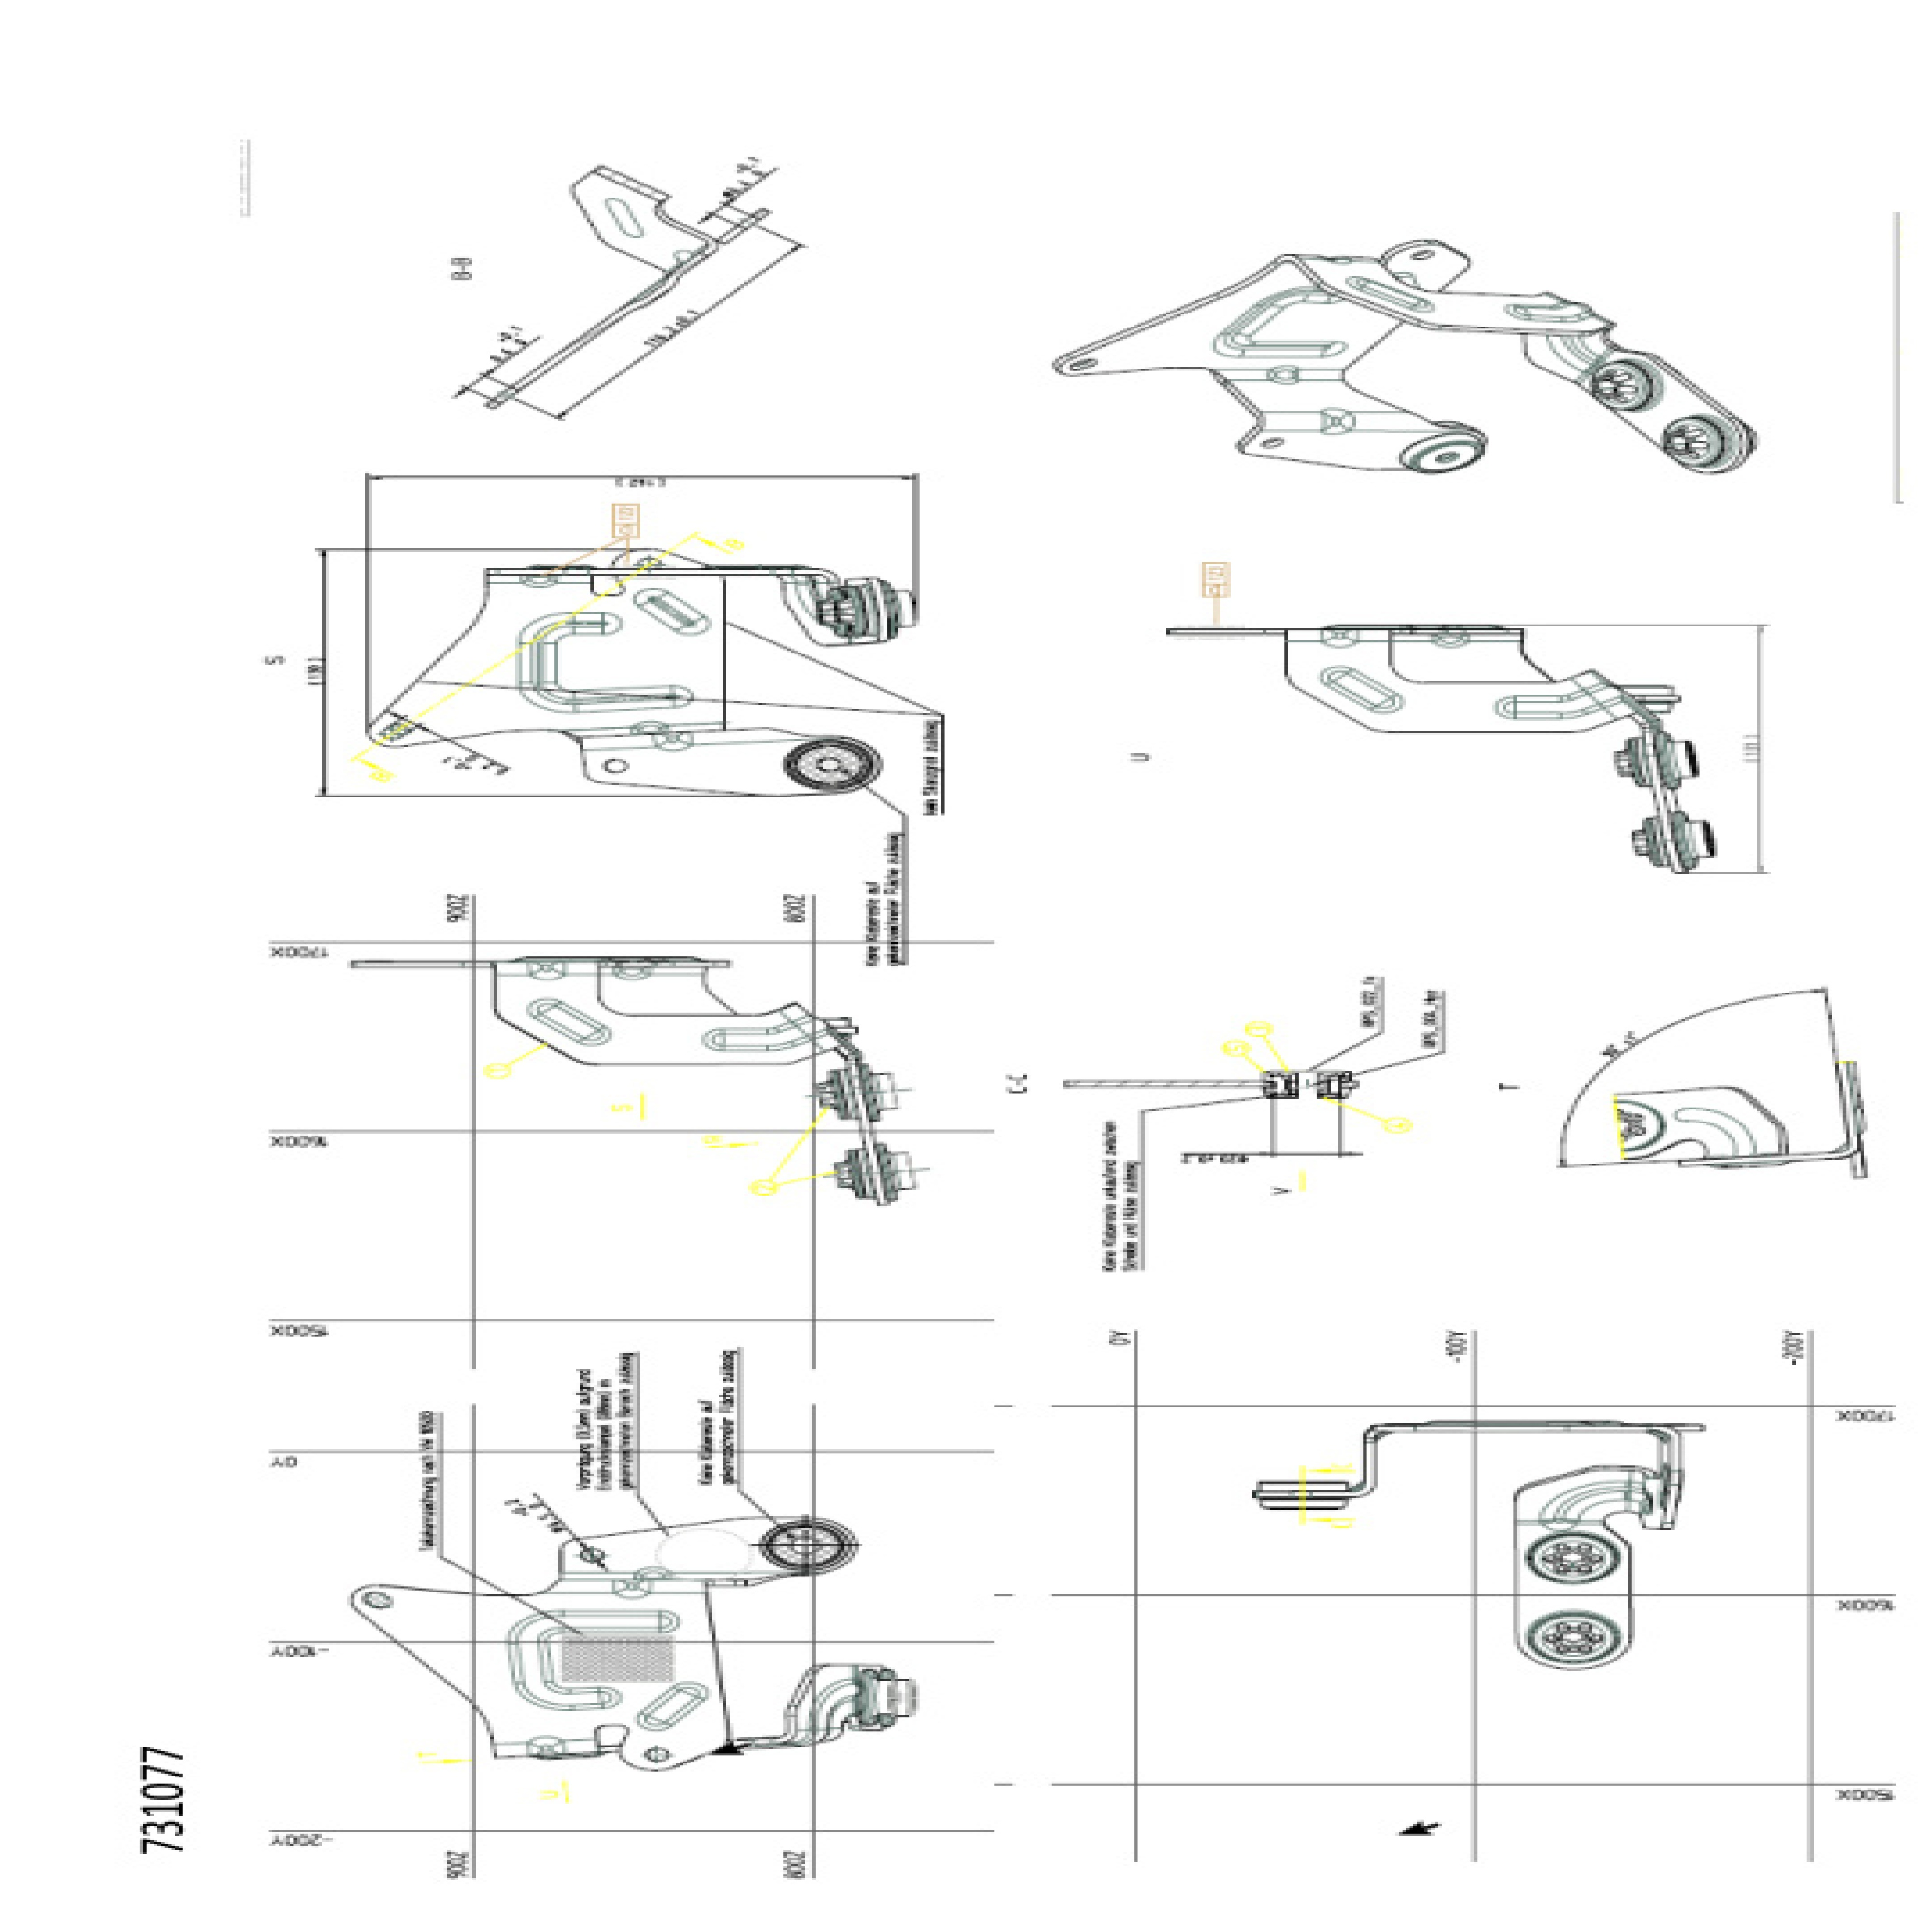Embossment: (494, 579, 717, 766), (488, 1569, 685, 1741), (1530, 1458, 1647, 1541), (1313, 649, 1412, 731), (625, 570, 724, 649), (699, 1007, 826, 1065), (626, 1665, 717, 1746), (522, 984, 619, 1058), (1491, 678, 1622, 731), (1341, 264, 1442, 322)
InnerContour: (793, 1536, 823, 1555), (363, 1591, 391, 1610), (605, 757, 630, 775), (1410, 248, 1435, 262), (1261, 437, 1284, 451), (646, 1746, 667, 1760), (816, 759, 839, 771), (1072, 361, 1099, 372), (639, 557, 660, 566)
Reinforcement: (524, 1732, 566, 1757), (1322, 625, 1361, 649), (520, 961, 570, 980), (1322, 409, 1355, 437), (649, 732, 697, 752), (612, 1578, 653, 1599), (1431, 628, 1470, 649), (612, 964, 653, 982), (1267, 364, 1302, 384), (517, 571, 559, 587), (630, 718, 671, 734), (632, 1566, 676, 1578)
